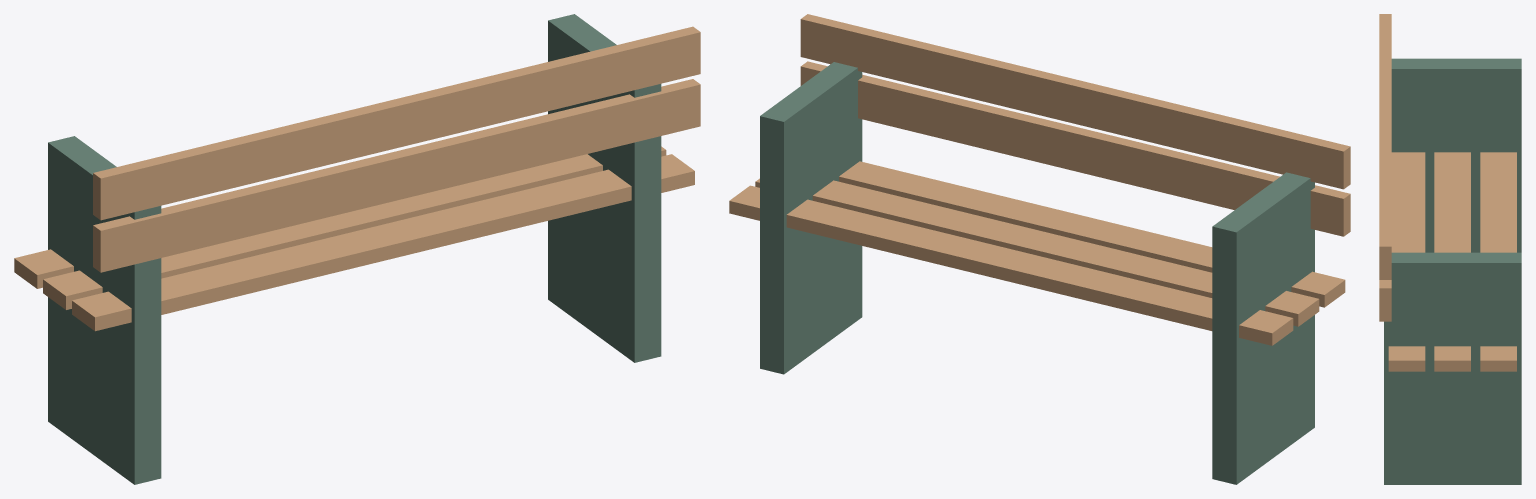
Rendered from prop_bench.glb.
3 renders of one model, left to right at view 1: azimuth 30°, elevation 25°; view 2: azimuth 150°, elevation 25°; view 3: azimuth 270°, elevation 25°, orthographic. The views are drawn at different scales.
Parts seen in each view (by area): view 1: Cube.006, Cube.005, Cube, Cube.001, Cube.002, Cube.003, Cube.004; view 2: Cube, Cube.006, Cube.001, Cube.005, Cube.004, Cube.003, Cube.002; view 3: Cube.001, Cube, Cube.003, Cube.004, Cube.002, Cube.006, Cube.005.
Boxes of the visible parts, box(x1,y1,x2,y2) form: Cube.006: box(93, 26, 700, 220); Cube.005: box(93, 79, 700, 272); Cube: box(48, 136, 161, 484); Cube.001: box(548, 14, 661, 362); Cube.002: box(72, 154, 694, 331); Cube.003: box(43, 146, 666, 309); Cube.004: box(14, 249, 73, 288); Cube: box(1212, 172, 1314, 484); Cube.006: box(800, 14, 1350, 189); Cube.001: box(760, 62, 862, 374); Cube.005: box(800, 61, 1350, 236); Cube.004: box(729, 185, 1293, 345); Cube.003: box(755, 178, 1319, 326); Cube.002: box(839, 161, 1345, 307); Cube.001: box(1384, 252, 1521, 484); Cube: box(1391, 58, 1521, 252); Cube.003: box(1434, 152, 1470, 371); Cube.004: box(1480, 152, 1516, 371); Cube.002: box(1388, 152, 1425, 371); Cube.006: box(1379, 14, 1391, 279); Cube.005: box(1379, 280, 1391, 321).
Bounding box in the file's own units: 1.8 × 0.91 × 0.465.
